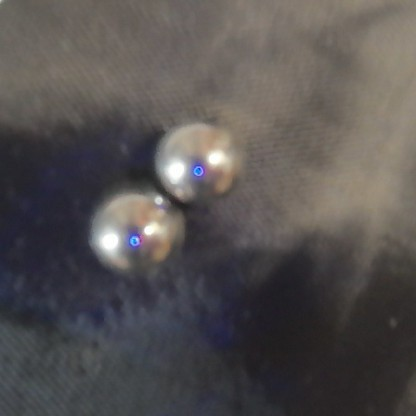ironball: (87, 189, 181, 273), (154, 121, 235, 199)
